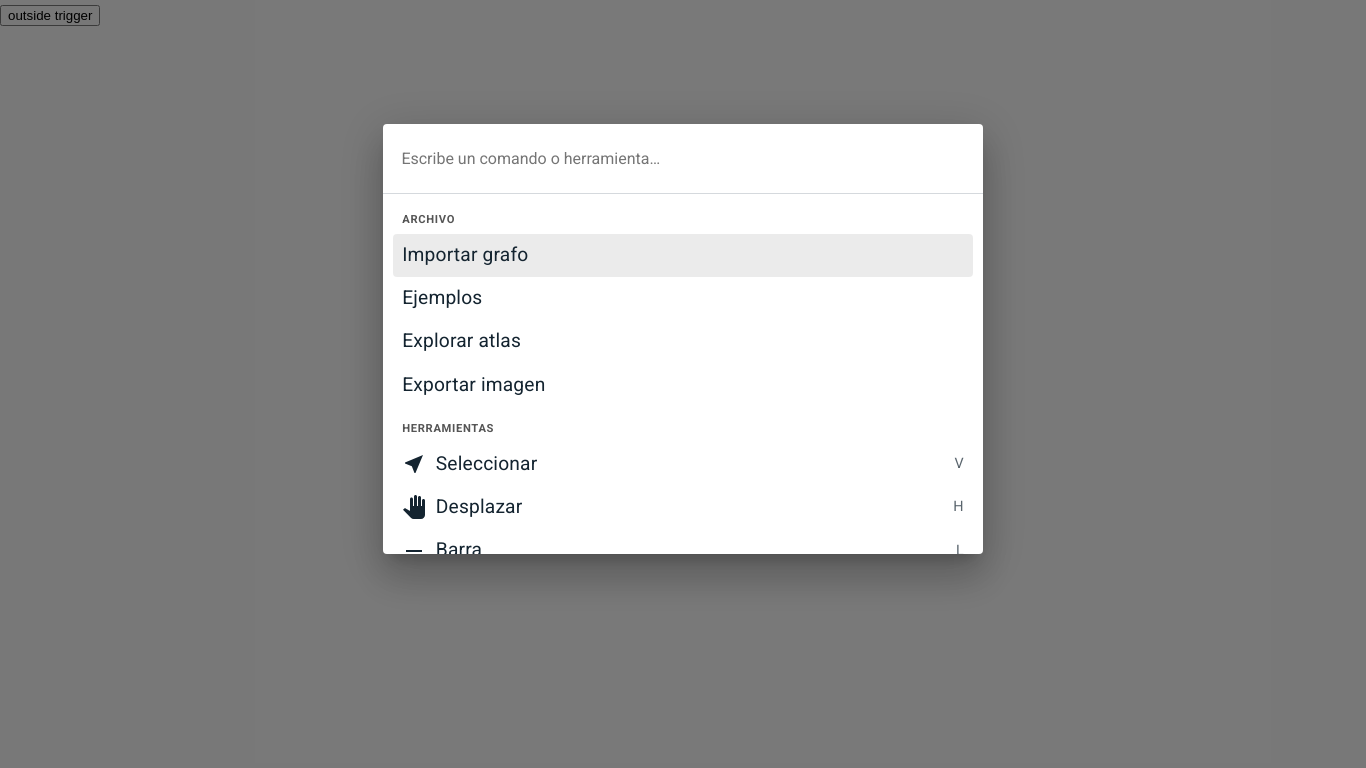
CommandPalette › shows the empty state for a query matching nothing
Type "zzzznomatchzzzz" into the dropdown with placeholder "Escribe un comando o herramienta…" at (683, 158), box [397,138,969,178]
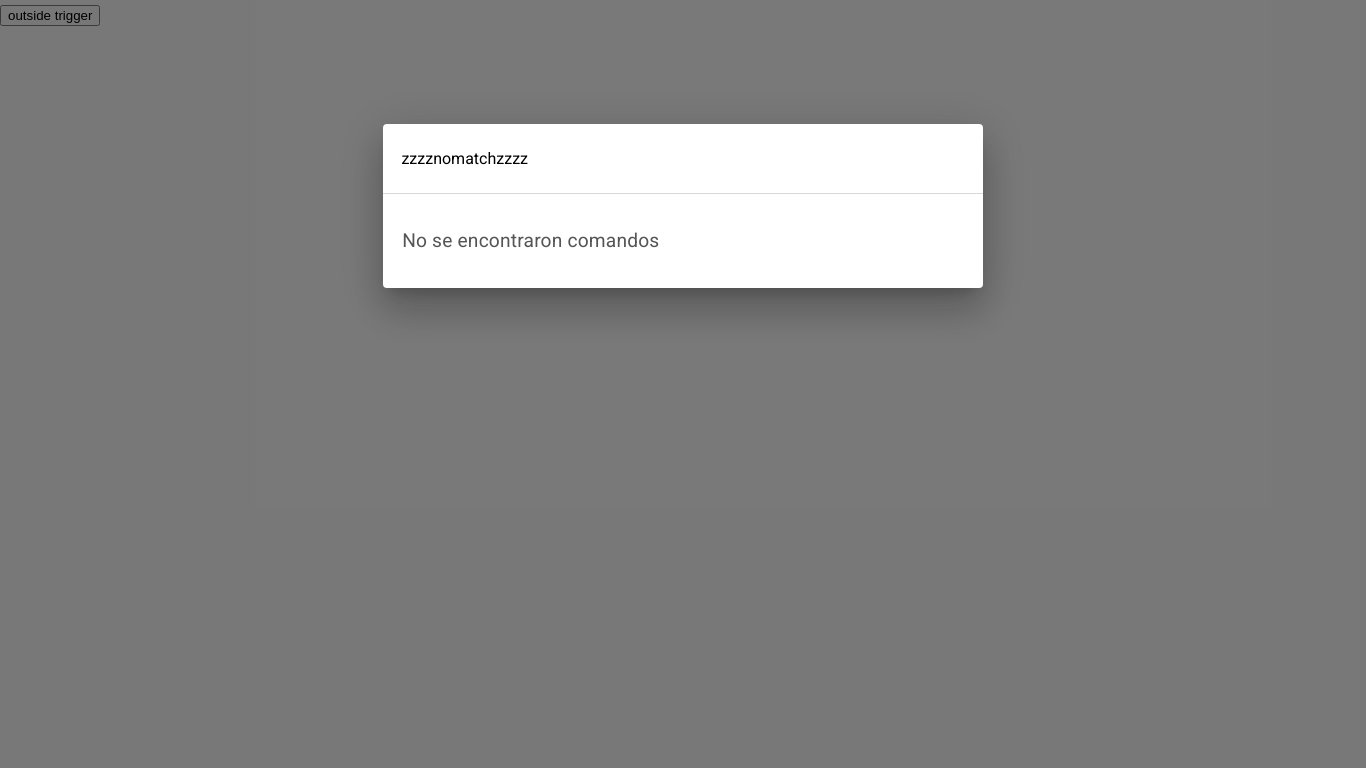
Expected: the text "No se encontraron comandos" is shown, [402,229,659,252]
